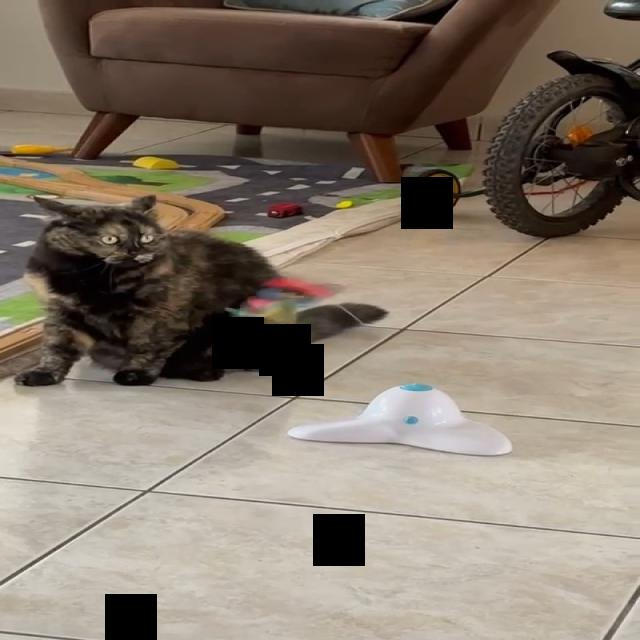authorized: (13, 193, 388, 387)
